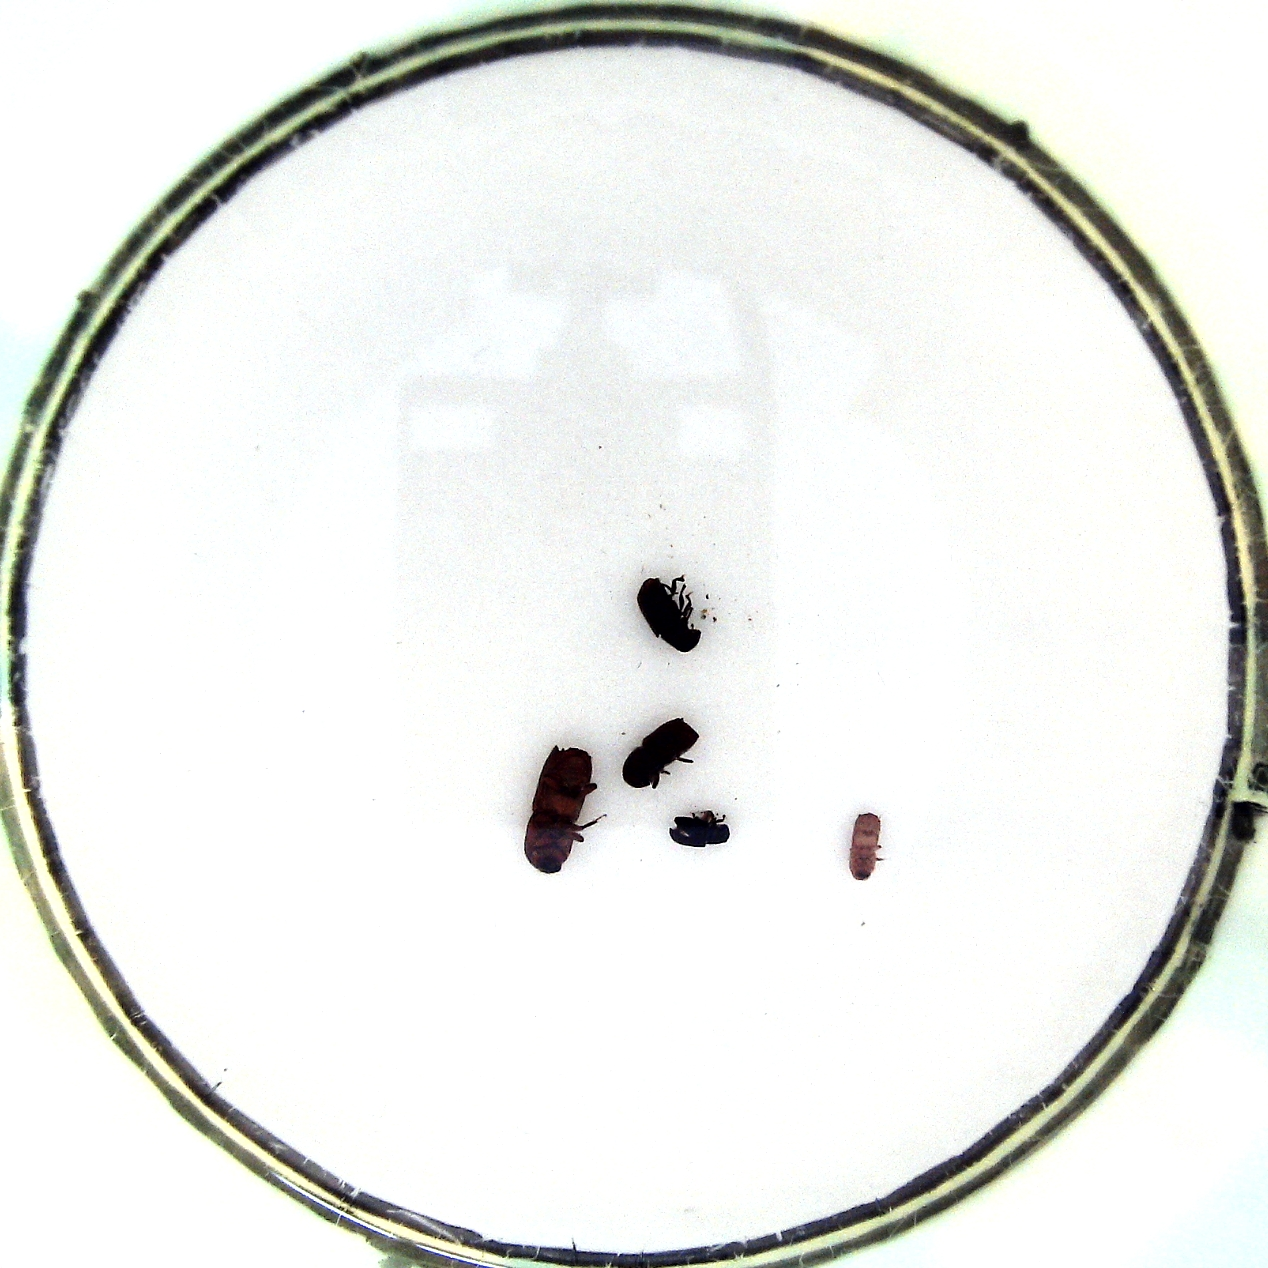Boerner: (519, 740, 608, 882)
Linnaeus: (617, 718, 703, 794)
acuminatus: (846, 807, 888, 892)
armandi: (634, 568, 712, 654)
coleoptera: (665, 805, 734, 853)
